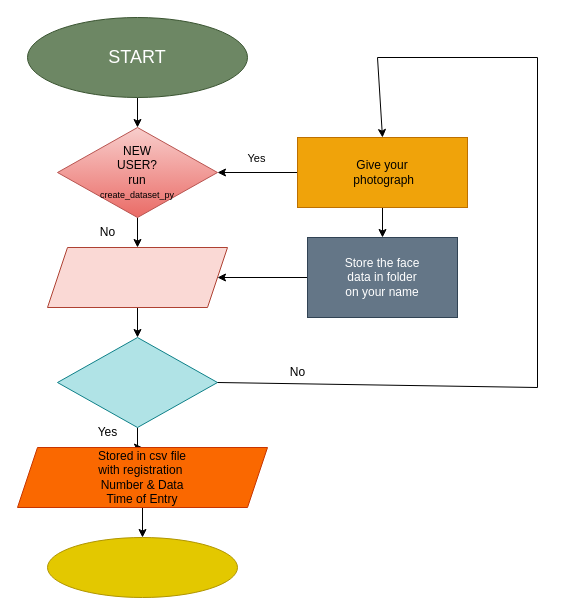
Image size: 563x615. Some labels were removed from this diagram. The shapes that lost their labels are listed below. From the top down, each one's centre as x and y in pixels, then its label:
the point at 137,277: RECOGNIZE THE FACE run face_recognisation.py
the point at 137,382: FACE RECOGNIZED
the point at 142,567: End
